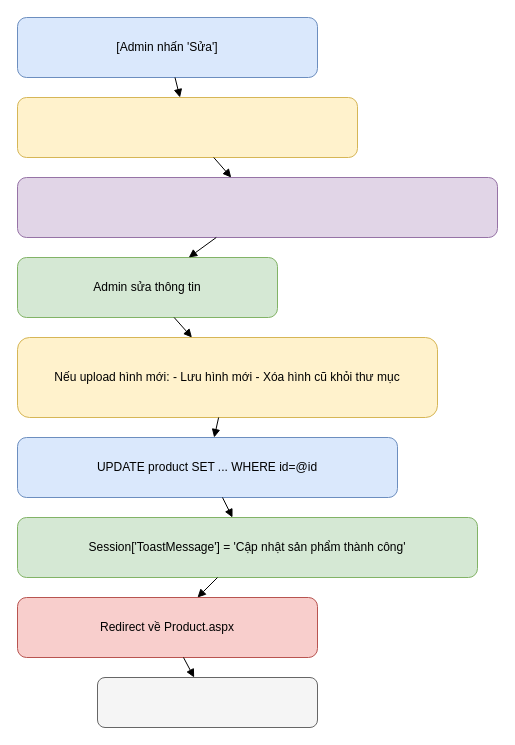
Some shapes in this 515 by 745 pixel diagram are drawn without their labels. The shapes that lost their labels are listed below. From the top down, each one's box as (x1, y1, x2, y2) in pixels, then its label:
(16, 96, 358, 158): Lấy product_id từ QueryString
(16, 176, 498, 238): SELECT * FROM product WHERE id=@id → Đổ dữ liệu ra form
(96, 676, 318, 728): [Kết thúc luồng]
